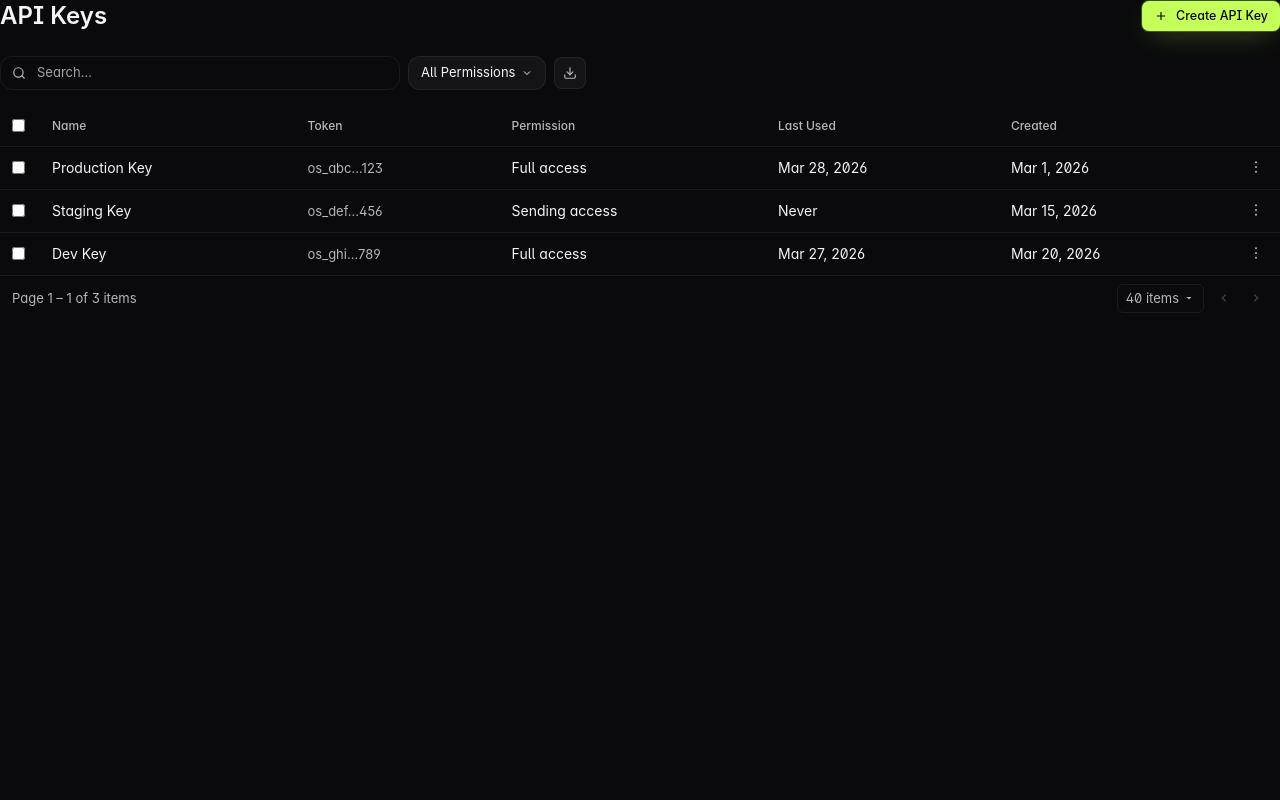
Test: API Keys List Page › opens create modal when clicking Create API Key button
The width and height of the screenshot is (1280, 800).
Click the button "Create API Key".
click(1211, 16)  # box x1=1142 y1=1 x2=1279 y2=31
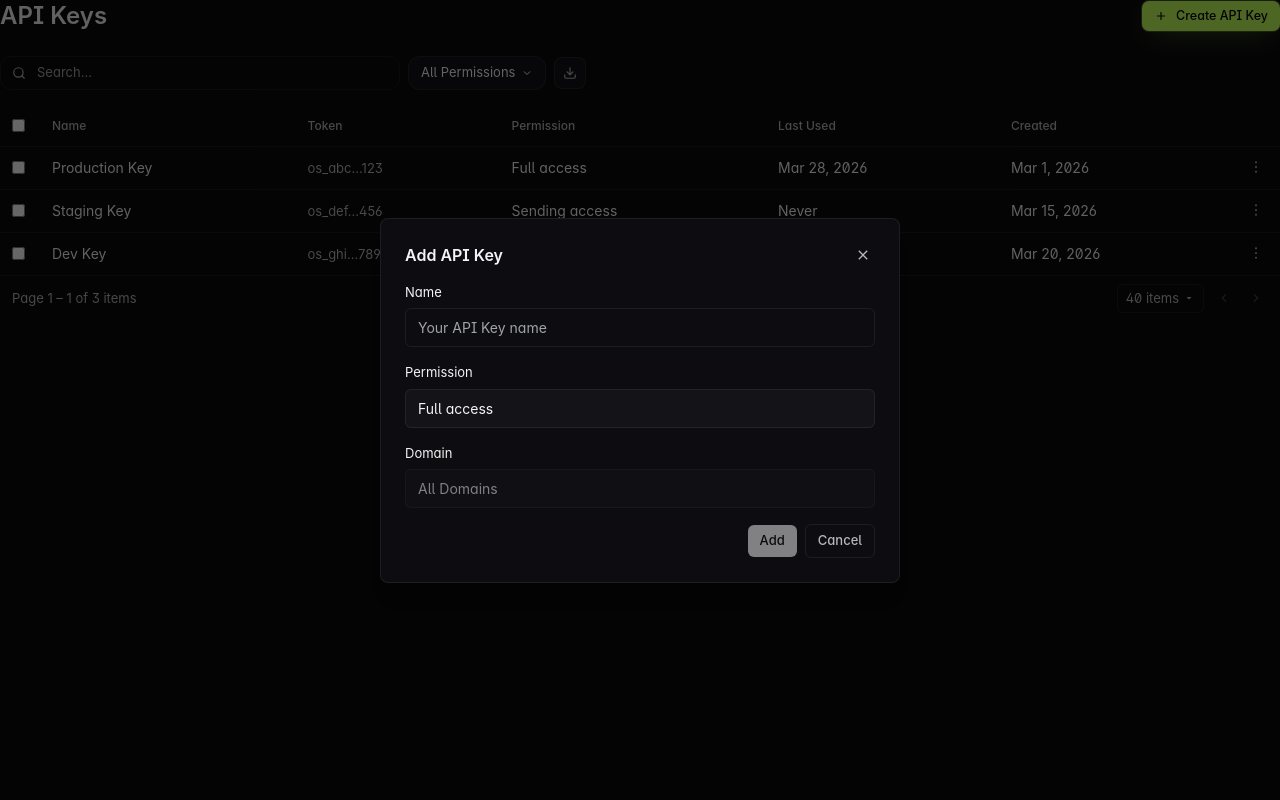
Result: the heading "Add API Key" is shown at x1=405 y1=242 x2=503 y2=266
Result: the field with placeholder "Your API Key name" is shown at x1=405 y1=308 x2=875 y2=347
